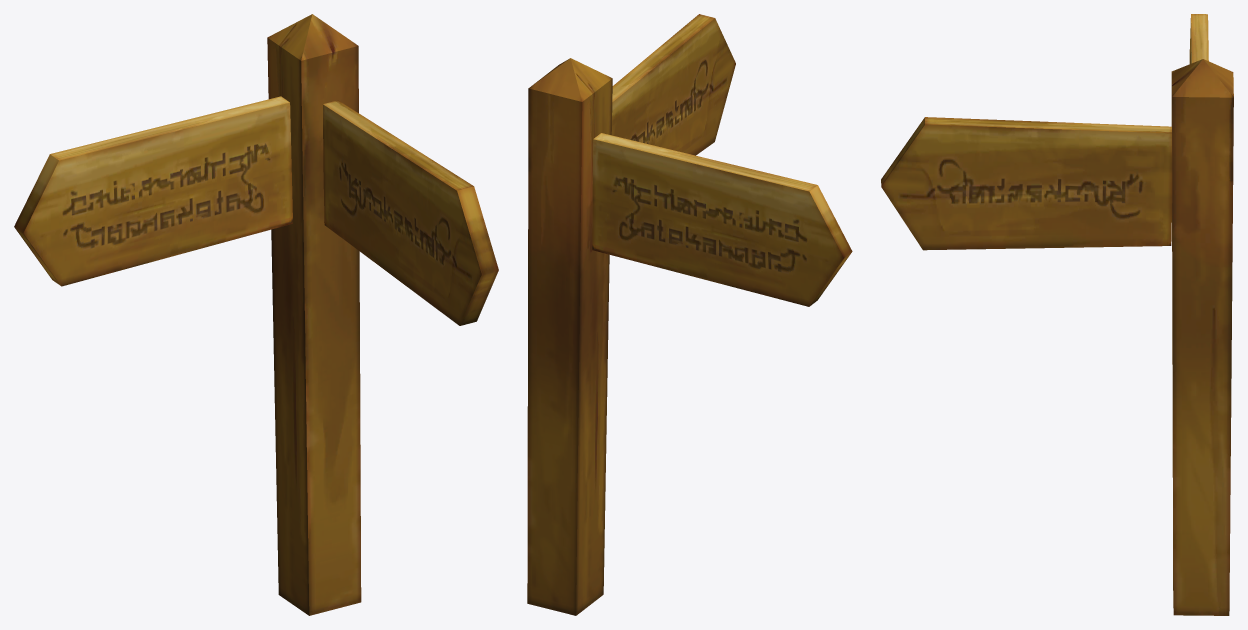
The model's file is Gimmick_Kanban_003.fbx.
3 renders of one model, left to right at view 1: azimuth 30°, elevation 25°; view 2: azimuth 150°, elevation 25°; view 3: azimuth 270°, elevation 25°, orthographic. The views are drawn at different scales.
Parts seen in each view (by area): view 1: Gimmick_Kanban_003; view 2: Gimmick_Kanban_003; view 3: Gimmick_Kanban_003.
Part boxes in pixels (box(x1,y1,x2,y2)): Gimmick_Kanban_003: box(14, 14, 498, 615); Gimmick_Kanban_003: box(527, 14, 852, 615); Gimmick_Kanban_003: box(881, 14, 1233, 615).
Bounding box in the file's own units: 0.8555 × 1.46 × 0.8568.
